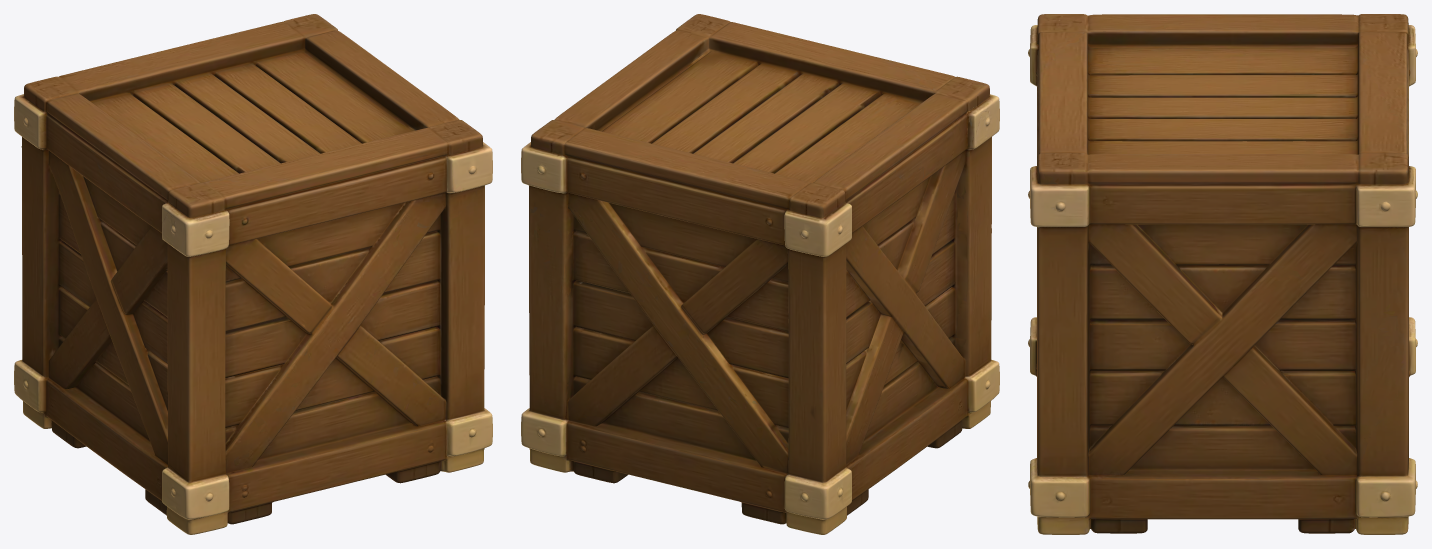
File: a_classic_closed_wooden_shipping_crate_of_warm_brown_planks_with_diagonal_cross-bracing_on_each_side_and_lighter_corner_posts.glb
3 views of the same model, side by side, from view 1: azimuth 30°, elevation 25°; view 2: azimuth 150°, elevation 25°; view 3: azimuth 270°, elevation 25° (orthographic). The views are drawn at different scales.
Parts seen in each view (by area): view 1: node_0; view 2: node_0; view 3: node_0.
Boxes of the visible parts, <box> form: node_0: <box>14,14,492,534</box>; node_0: <box>521,14,999,534</box>; node_0: <box>1028,14,1417,534</box>.
Bounding box in the file's own units: 0.7229 × 0.7374 × 0.7123.
Materials: 1 (1 with a texture image).
